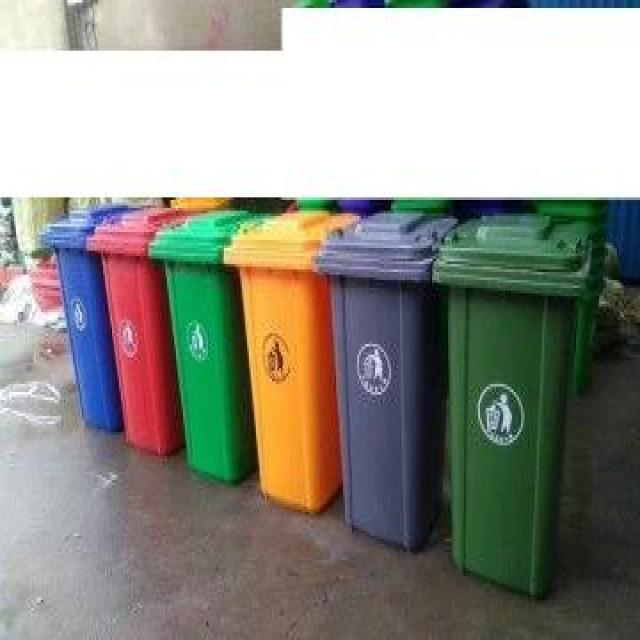garbage_bin: (430, 205, 590, 598), (311, 208, 457, 549), (222, 208, 361, 509), (146, 208, 270, 483), (84, 203, 204, 453), (38, 203, 142, 429)
